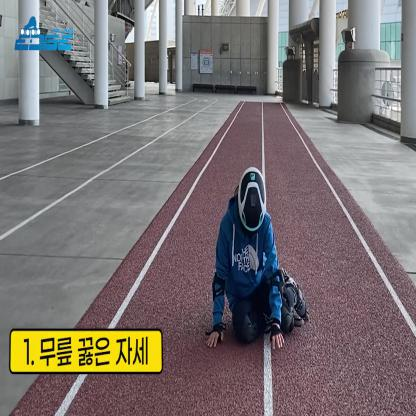Fall_Down: (207, 169, 307, 354)
